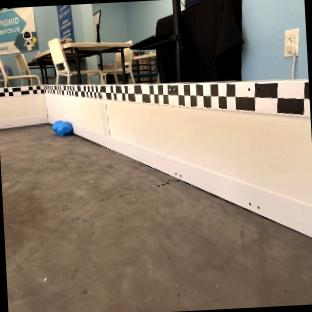V5_BLUE: (52, 120, 72, 135)
